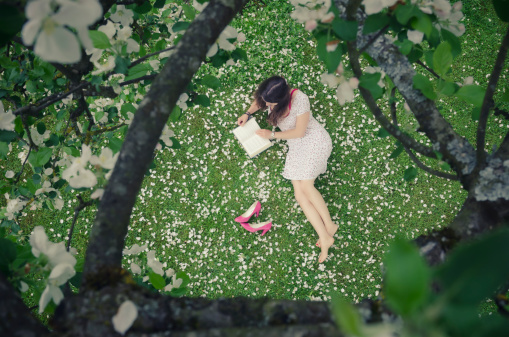deitado: (229, 68, 335, 261)
